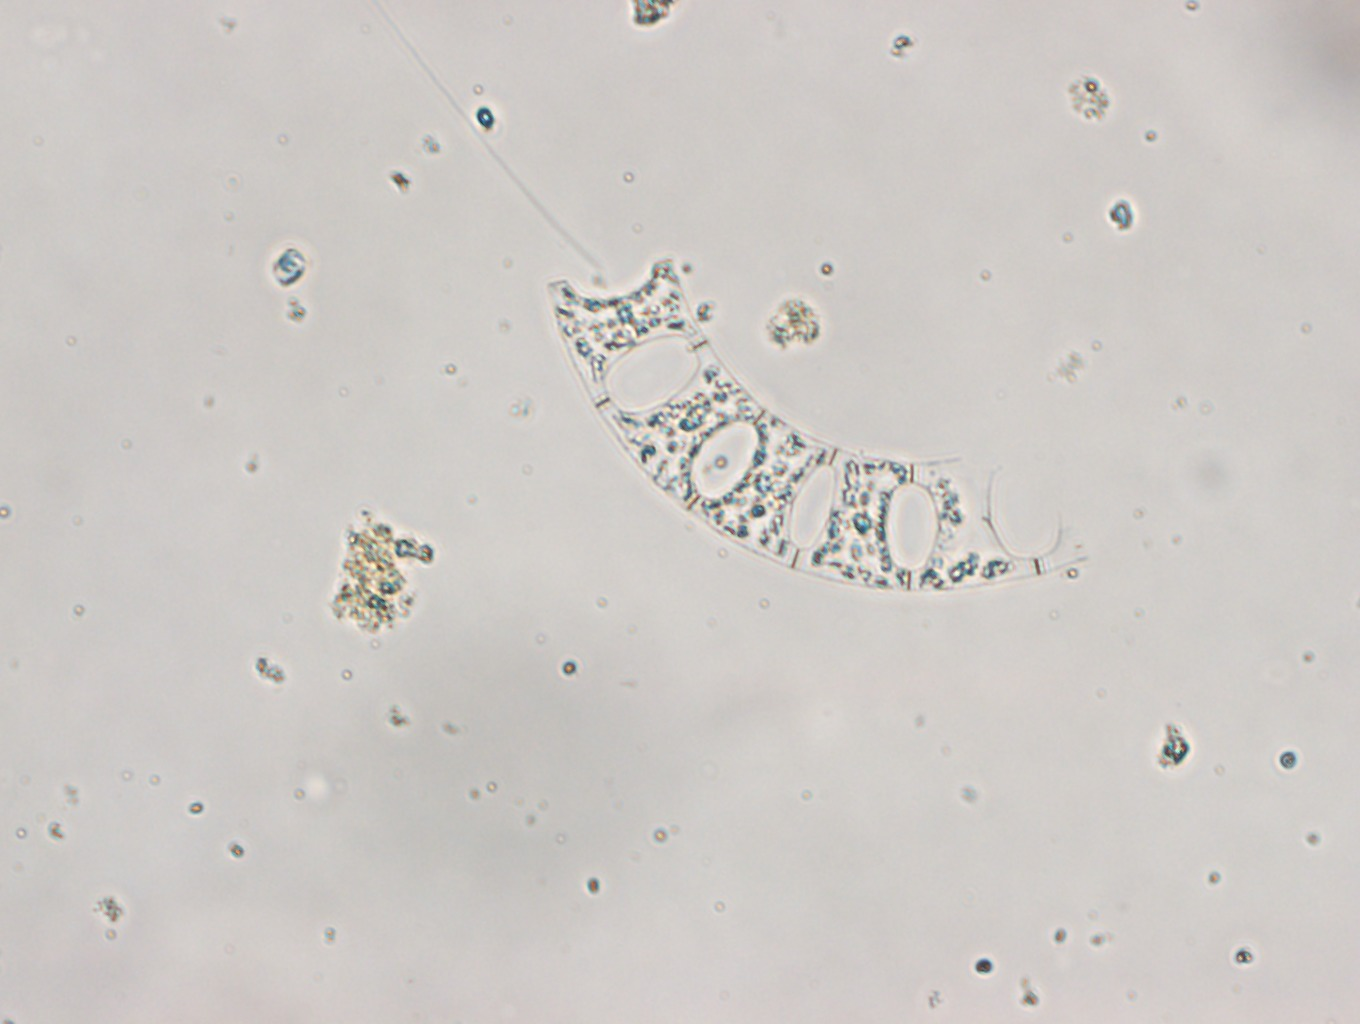eucampia: (547, 257, 1090, 591)
